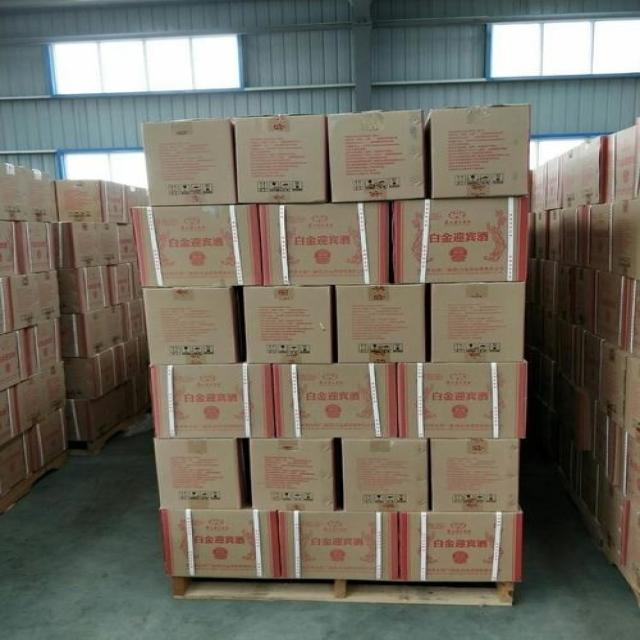box: (390, 197, 529, 284), (259, 201, 389, 286), (131, 205, 261, 287), (397, 362, 527, 439), (425, 104, 529, 199), (271, 363, 397, 439), (148, 365, 275, 439), (326, 109, 425, 203), (233, 113, 328, 204), (279, 510, 399, 582), (399, 512, 522, 582), (141, 118, 236, 206), (160, 510, 279, 579), (431, 282, 526, 363), (143, 288, 238, 366), (335, 284, 426, 364), (242, 286, 333, 364), (430, 439, 518, 512), (343, 439, 429, 512), (250, 439, 335, 511), (155, 439, 241, 509), (576, 326, 627, 406), (14, 362, 69, 436), (60, 303, 129, 358), (561, 135, 607, 208), (55, 179, 127, 224), (68, 384, 123, 442), (63, 346, 122, 399), (26, 406, 69, 474), (594, 270, 630, 350), (15, 318, 61, 380), (605, 123, 640, 202), (58, 265, 111, 315), (556, 264, 594, 333), (0, 437, 33, 513), (611, 199, 640, 279), (52, 223, 101, 269), (15, 222, 55, 274), (559, 205, 590, 268), (0, 161, 32, 222), (10, 273, 38, 331), (590, 202, 611, 272), (0, 330, 24, 391), (31, 169, 56, 223), (36, 270, 60, 323), (0, 386, 19, 446), (109, 263, 134, 306), (0, 220, 18, 277), (547, 153, 564, 211), (99, 224, 122, 265), (0, 278, 15, 334), (548, 208, 563, 263)
